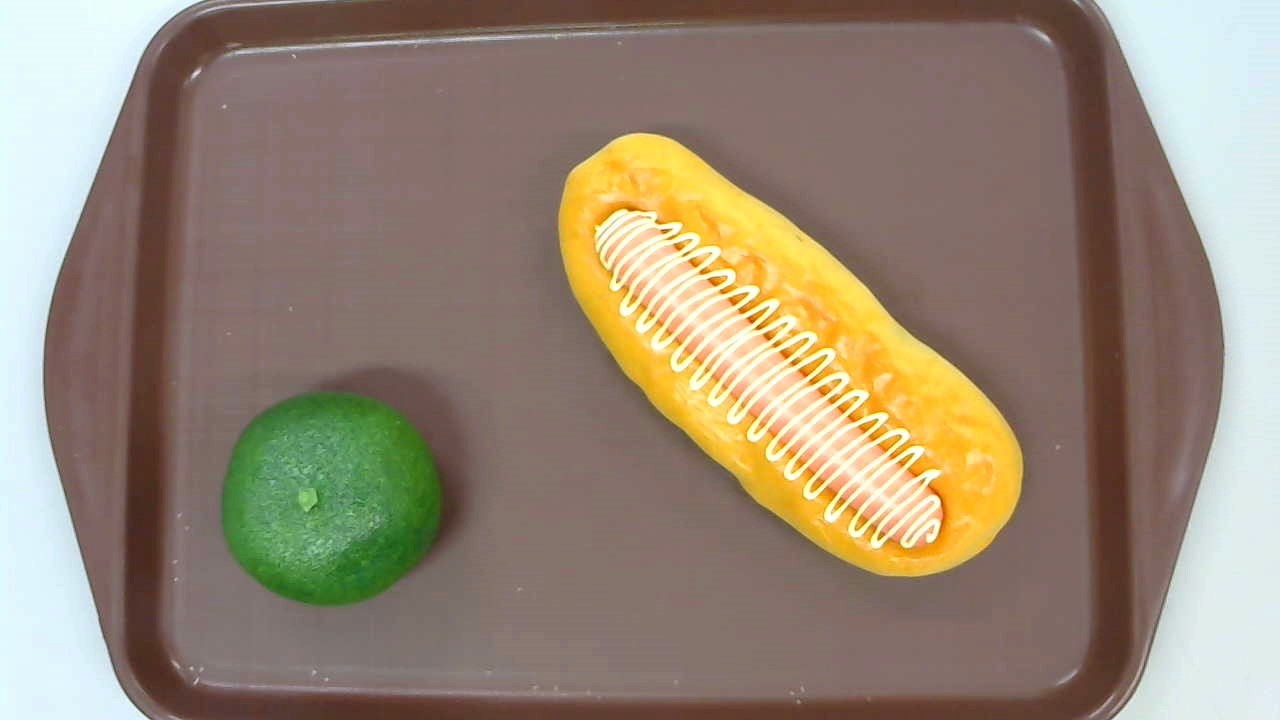green orange: (222, 390, 441, 607)
hot dog: (557, 132, 1024, 578)
